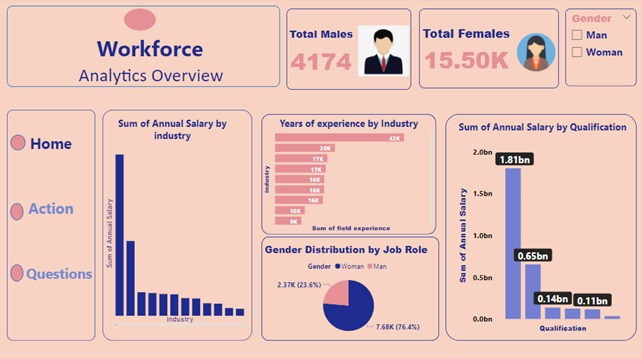

Layout of this report page (visuals, bound fields, positions):
{"tool":"powerbi","page":{"name":"Home","canvas":[1280,720],"ordinal":0},"visuals":[{"type":"shape","box":[17,15.6,542.8,161.6],"z":1000},{"type":"shape","box":[572.6,21.3,248,161.6],"z":2000},{"type":"shape","box":[836.2,21.3,277.8,158.7],"z":3000},{"type":"shape","box":[1126.8,21.3,141.7,154.5],"z":4000},{"type":"shape","box":[192.8,222.5,301.9,447.9],"z":5000},{"type":"shape","box":[523,231.2,346.8,239.5],"z":6000},{"type":"shape","box":[523,494.1,346.8,195.4],"z":7000},{"type":"shape","box":[883.6,419.8,385.4,269.8],"z":8000},{"type":"shape","box":[880.2,226.8,377,172.9],"z":9000},{"type":"textbox","box":[83.6,65.2,446.5,69.4],"z":10000},{"type":"textbox","box":[83.6,124.7,439.4,58.1],"z":11000},{"type":"shape","box":[249.4,21.3,63.8,43.9],"z":12000},{"type":"card","title":"Total Males","fields":{"Values":["CountNonNull(Sheet1 (2).Male)"]},"box":[572.6,56.7,137.5,106.3],"z":13000},{"type":"card","title":"Total Females","fields":{"Values":["CountNonNull(Sheet1 (2).Female)"]},"box":[836.2,53.9,187.1,106.3],"z":14000},{"type":"image","box":[710.1,43.9,110.6,123.3],"z":15000},{"type":"image","box":[1023.3,39.7,90.7,137.5],"z":16000},{"type":"pieChart","title":"Gender Distribution by Job Role","fields":{"Category":["Sheet1 (2).Gender"],"Y":["Count(Sheet1 (2).Job title)"]},"box":[883,425.2,385.5,256.5],"z":17000},{"type":"barChart","title":"Years of experience by Industry","fields":{"Category":["Sheet1 (2).industry"],"Y":["Sum(Sheet1 (2).years of experience in your field.2.1)"]},"box":[523,256.5,347.2,214],"z":18000},{"type":"filledMap","fields":{"Category":["Sheet1 (2).country"]},"box":[880.2,260.8,377,140.3],"z":19000},{"type":"lineStackedColumnComboChart","fields":{"Category":["Sheet1 (2).industry"],"Y":["Sum(Sheet1 (2).Annual Salary)"]},"box":[192.8,290.6,301.9,368.5],"z":20000},{"type":"slicer","fields":{"Values":["Sheet1 (2).Gender"]},"box":[1126.8,21.3,141.7,154.5],"z":21000},{"type":"textbox","box":[530.6,231.7,333.2,47.2],"z":22000},{"type":"textbox","box":[206.9,231,277.8,82.2],"z":23000},{"type":"columnChart","fields":{"Y":["Sum(Sheet1 (2).Annual Salary)"],"Category":["Sheet1 (2).Qualification"]},"box":[523,528.7,347.2,160.2],"z":24000},{"type":"textbox","box":[523.4,494.8,346.1,45.8],"z":25000},{"type":"textbox","box":[883,231,258,59.5],"z":26000},{"type":"shape","box":[17,435.1,25.5,34],"z":28000},{"type":"actionButton","title":"Home","box":[45.4,311.8,109.1,52.4],"z":28500},{"type":"shape","box":[17,331.7,25.5,34],"z":29000},{"type":"shape","box":[17,528.7,29.8,31.2],"z":30000},{"type":"actionButton","title":"Home","box":[45.4,413.9,109.1,53.9],"z":31000},{"type":"actionButton","title":"Home","box":[45.4,517.3,141.7,53.9],"z":32000},{"type":"shape","box":[15.6,222.5,170.1,459.2],"z":32001}]}

Visuals, with their boxes in screenshot pixels (x1, y1, x2, y2), scaled from the page's 1280x720 canvas onto the 642x359 screenshot:
shape: bbox=[9, 8, 281, 88]
shape: bbox=[287, 11, 412, 91]
shape: bbox=[419, 11, 559, 90]
shape: bbox=[565, 11, 636, 88]
shape: bbox=[97, 111, 248, 334]
shape: bbox=[262, 115, 436, 235]
shape: bbox=[262, 246, 436, 344]
shape: bbox=[443, 209, 636, 344]
shape: bbox=[441, 113, 631, 199]
textbox: bbox=[42, 33, 266, 67]
textbox: bbox=[42, 62, 262, 91]
shape: bbox=[125, 11, 157, 33]
"Total Males" card: bbox=[287, 28, 356, 81]
"Total Females" card: bbox=[419, 27, 513, 80]
image: bbox=[356, 22, 412, 83]
image: bbox=[513, 20, 559, 88]
"Gender Distribution by Job Role" pieChart: bbox=[443, 212, 636, 340]
"Years of experience by Industry" barChart: bbox=[262, 128, 436, 235]
filledMap - Sheet1 (2).country: bbox=[441, 130, 631, 200]
lineStackedColumnComboChart - Sheet1 (2).industry x Sum(Sheet1 (2).Annual Salary): bbox=[97, 145, 248, 329]
slicer - Sheet1 (2).Gender: bbox=[565, 11, 636, 88]
textbox: bbox=[266, 116, 433, 139]
textbox: bbox=[104, 115, 243, 156]
columnChart - Sum(Sheet1 (2).Annual Salary) x Sheet1 (2).Qualification: bbox=[262, 264, 436, 343]
textbox: bbox=[263, 247, 436, 270]
textbox: bbox=[443, 115, 572, 145]
shape: bbox=[9, 217, 21, 234]
"Home" actionButton: bbox=[23, 155, 77, 182]
shape: bbox=[9, 165, 21, 182]
shape: bbox=[9, 264, 23, 279]
"Home" actionButton: bbox=[23, 206, 77, 233]
"Home" actionButton: bbox=[23, 258, 94, 285]
shape: bbox=[8, 111, 93, 340]
